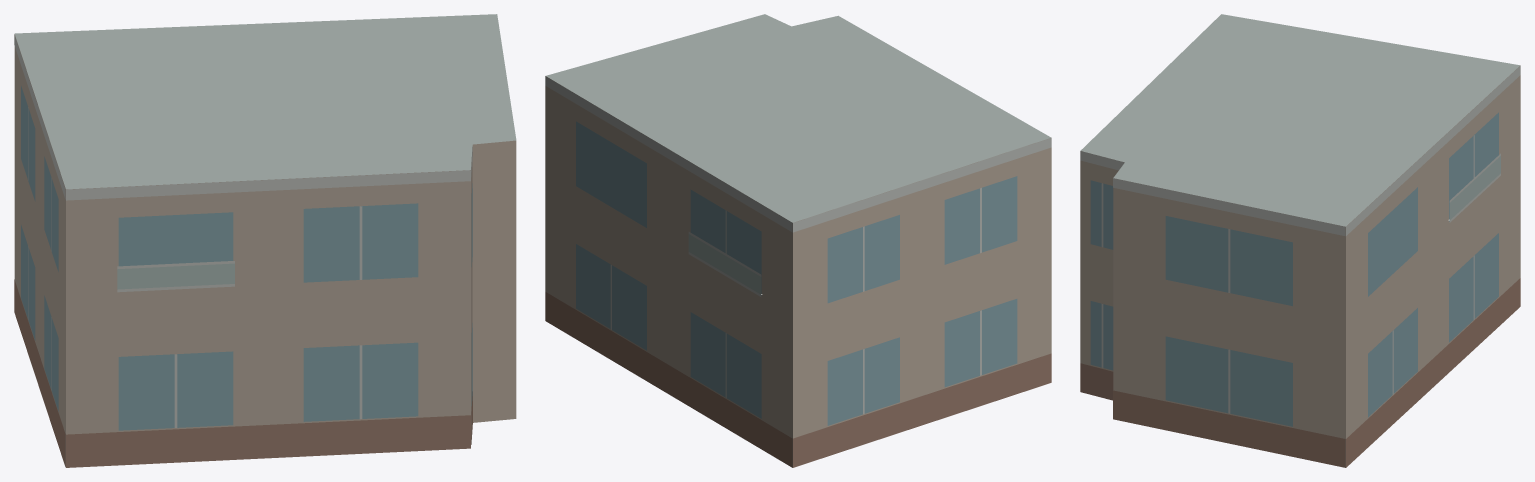
File: survey-upis-32636000.glb
3 renders of one model, left to right at view 1: azimuth 30°, elevation 25°; view 2: azimuth 150°, elevation 25°; view 3: azimuth 270°, elevation 25°, orthographic. The views are drawn at different scales.
Visible parts, largest first — view 1: survey-upis-32636000.tmp; view 2: survey-upis-32636000.tmp; view 3: survey-upis-32636000.tmp.
Part boxes in pixels (x1=…): survey-upis-32636000.tmp: x1=14, y1=14, x2=516, y2=467; survey-upis-32636000.tmp: x1=545, y1=14, x2=1051, y2=467; survey-upis-32636000.tmp: x1=1080, y1=14, x2=1520, y2=467.
Bounding box in the file's own units: 11.55 × 6.1 × 10.1.
